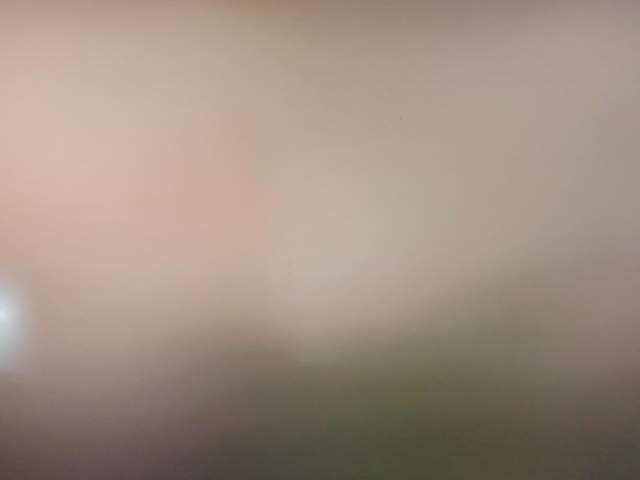pothole: (319, 440, 419, 480)
